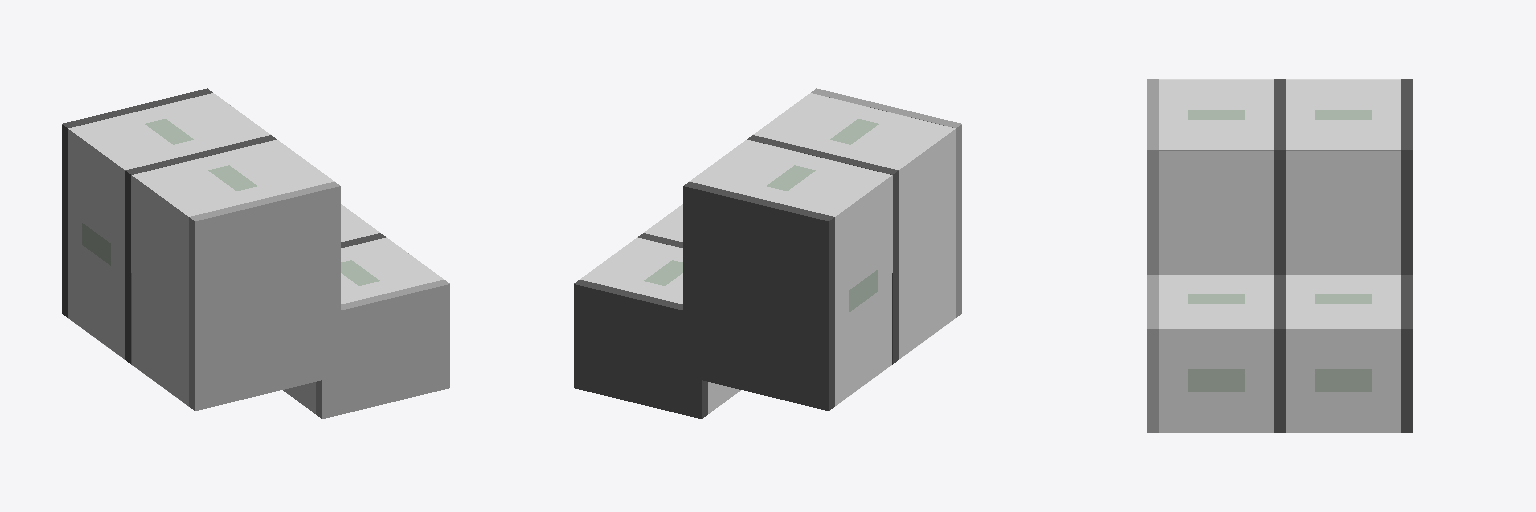
Rendered from 1.ifc.obj.
3 views of the same model, side by side, from view 1: azimuth 30°, elevation 25°; view 2: azimuth 150°, elevation 25°; view 3: azimuth 270°, elevation 25° (orthographic).
Parts seen in each view (by area): view 1: Roof I, Outer Wall X, Outer Wall II, Outer Wall I, Outer Wall IX, Outer Wall XV, Window, Floor II, Floor I, Outer Wall VII, Outer Wall XII; view 2: Floor I, Outer Wall X, Outer Wall II, Outer Wall IX, Outer Wall I, Outer Wall VII, Window, Floor II, Roof I, Outer Wall XV, Outer Wall IV; view 3: Outer Wall VIII, Outer Wall XVI, Outer Wall VI, Outer Wall XIV, Outer Wall I, Outer Wall IX, Outer Wall VII, Outer Wall XV, Window, Floor I, Floor II, Roof I.
Part boxes in pixels (bbox=[...]): Roof I: bbox=[189, 182, 449, 418]; Outer Wall X: bbox=[131, 175, 188, 405]; Outer Wall II: bbox=[68, 129, 124, 358]; Outer Wall I: bbox=[68, 93, 270, 169]; Outer Wall IX: bbox=[132, 140, 334, 216]; Outer Wall XV: bbox=[341, 237, 443, 303]; Window: bbox=[82, 119, 379, 285]; Floor II: bbox=[125, 135, 385, 364]; Floor I: bbox=[62, 88, 212, 317]; Outer Wall VII: bbox=[341, 204, 379, 241]; Outer Wall XII: bbox=[283, 382, 315, 413]; Floor I: bbox=[574, 182, 834, 418]; Outer Wall X: bbox=[899, 129, 955, 358]; Outer Wall II: bbox=[835, 175, 892, 405]; Outer Wall IX: bbox=[753, 93, 955, 169]; Outer Wall I: bbox=[689, 140, 891, 216]; Outer Wall VII: bbox=[580, 237, 682, 303]; Window: bbox=[644, 119, 878, 311]; Floor II: bbox=[638, 135, 898, 364]; Roof I: bbox=[811, 88, 961, 317]; Outer Wall XV: bbox=[644, 204, 682, 241]; Outer Wall IV: bbox=[708, 382, 740, 413]; Outer Wall VIII: bbox=[1286, 151, 1400, 274]; Outer Wall XVI: bbox=[1159, 151, 1273, 274]; Outer Wall VI: bbox=[1286, 329, 1400, 432]; Outer Wall XIV: bbox=[1159, 329, 1273, 432]; Outer Wall I: bbox=[1286, 80, 1400, 150]; Outer Wall IX: bbox=[1159, 80, 1273, 150]; Outer Wall VII: bbox=[1286, 275, 1400, 328]; Outer Wall XV: bbox=[1159, 275, 1273, 328]; Window: bbox=[1188, 110, 1371, 391]; Floor I: bbox=[1401, 79, 1412, 432]; Floor II: bbox=[1274, 79, 1285, 432]; Roof I: bbox=[1147, 79, 1158, 432].
Bounding box in the file's own units: 7.18 × 6.15 × 6.5.